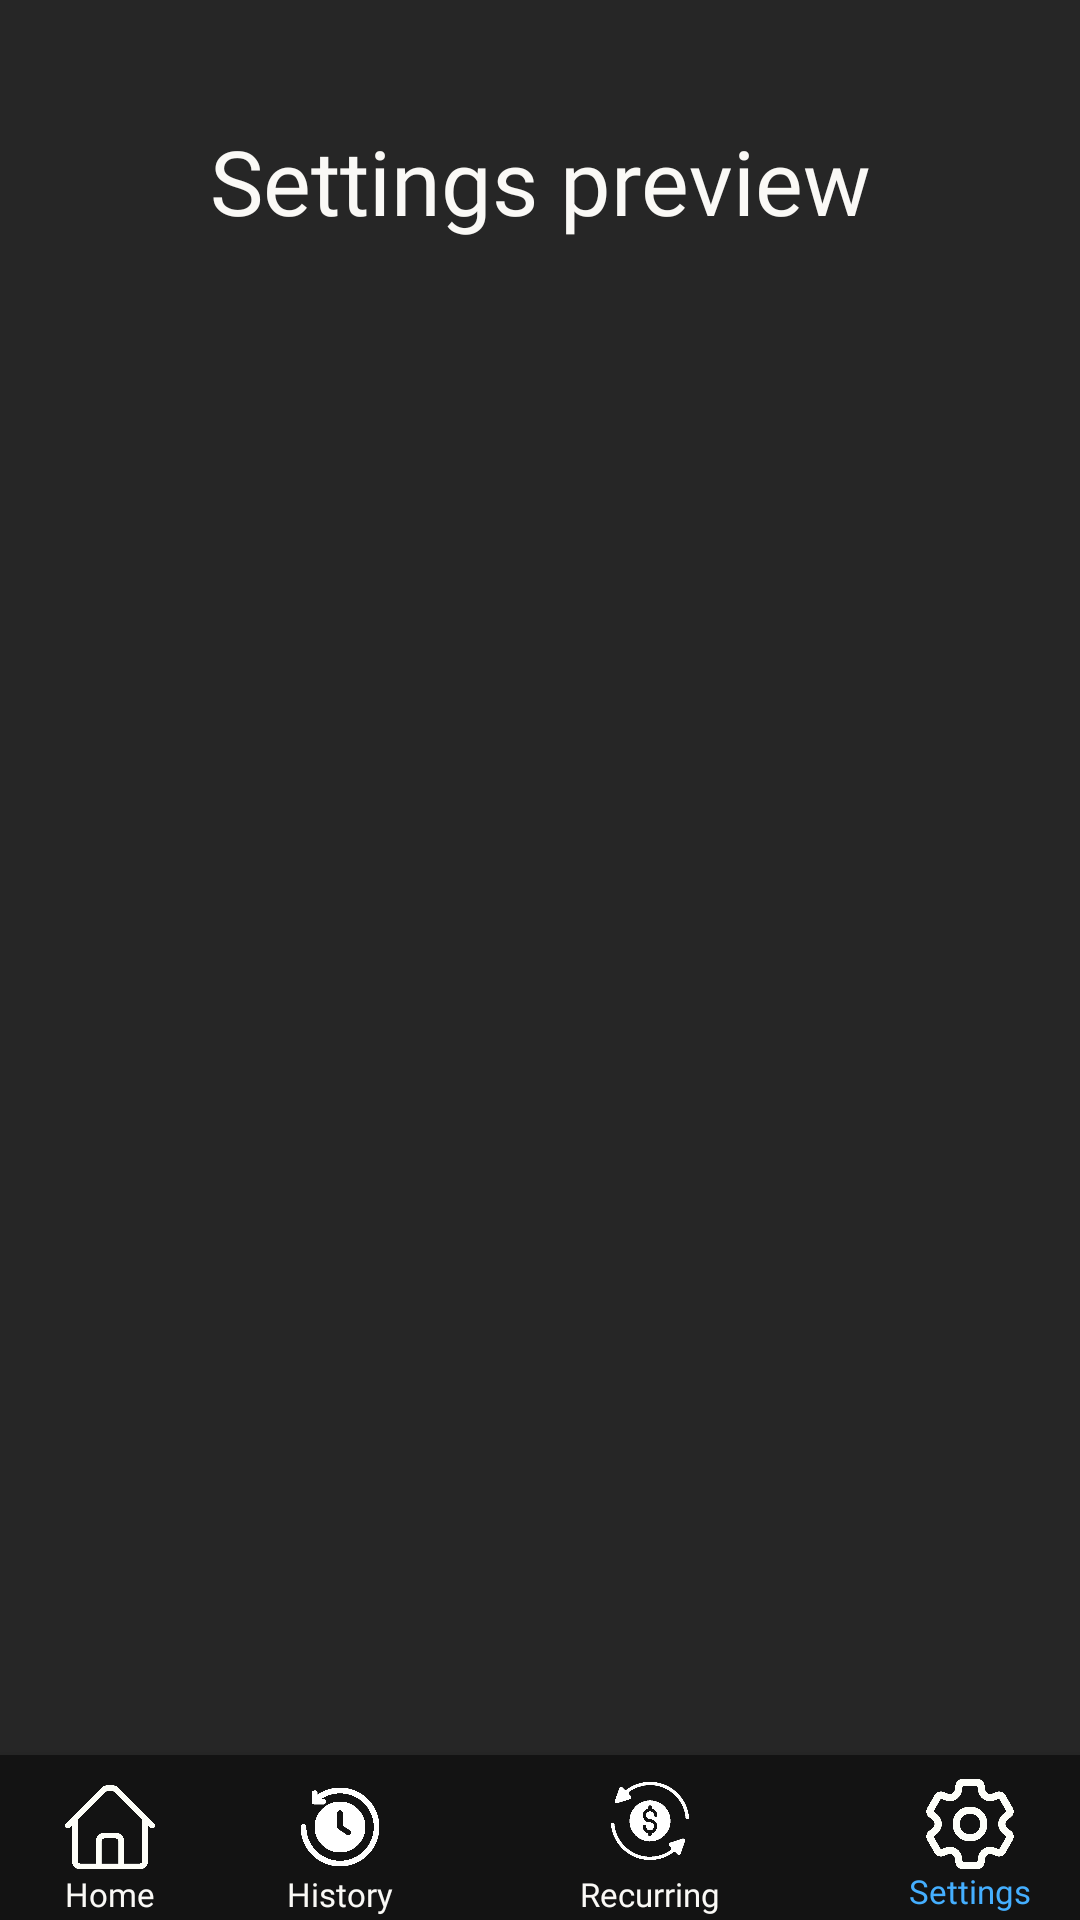

Named icons in this screenshot (1080px x 1920px) and their centers, [x,y]:
subscriptions: [650,1821]
